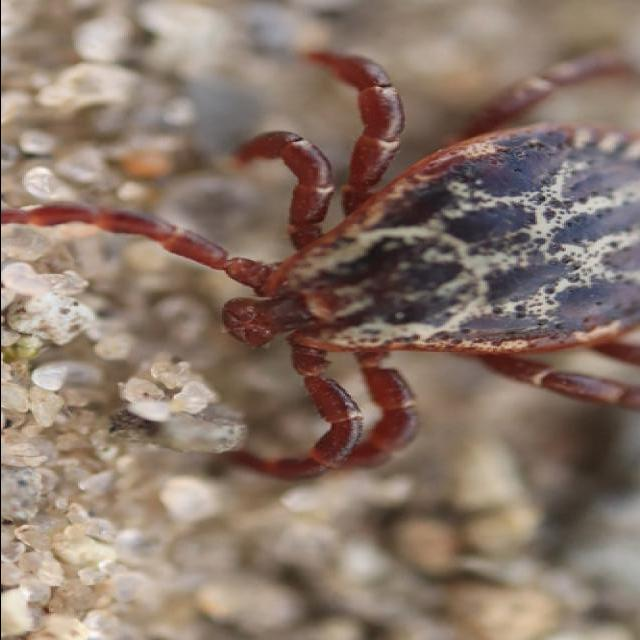Dermacentor Reticulatus-M: (0, 50, 640, 468)
